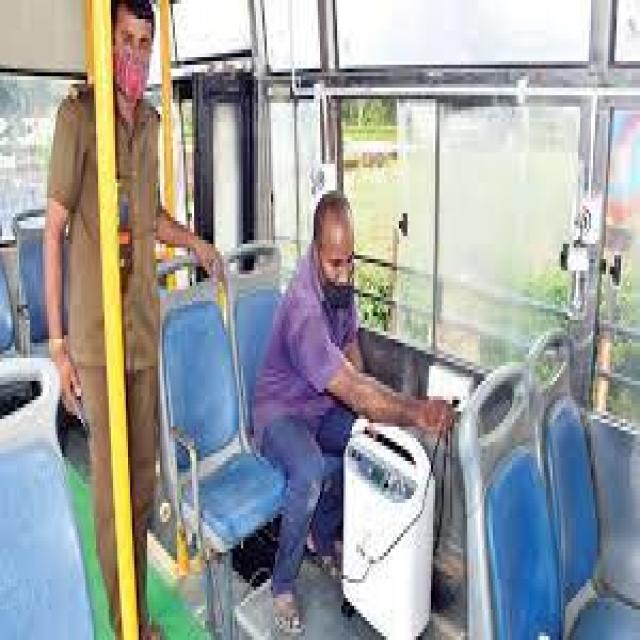empty-seat-frontal: (154, 258, 287, 553)
